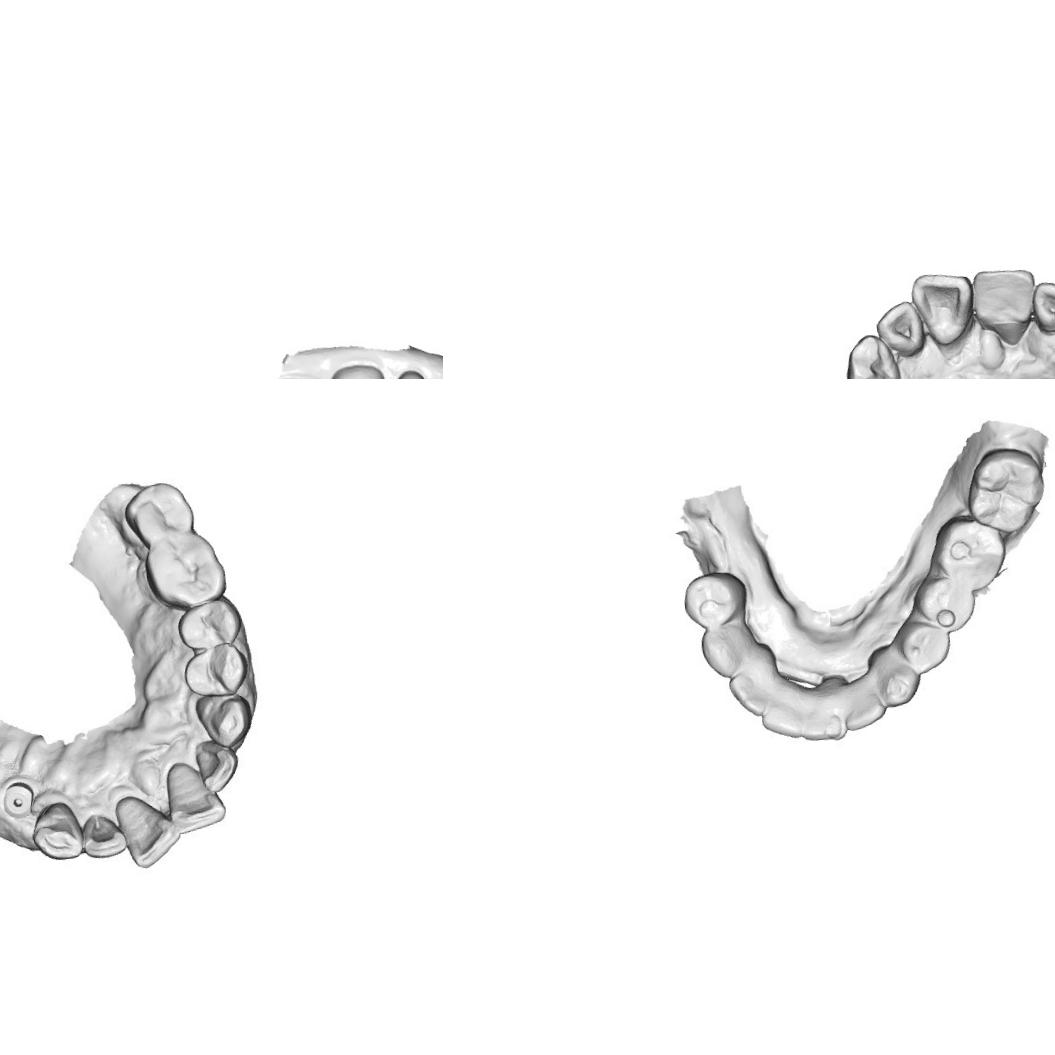canine: (695, 618, 764, 680), (198, 686, 257, 755), (30, 802, 91, 865), (846, 330, 909, 379), (872, 646, 919, 700)
implant: (0, 783, 34, 821)
incisor: (972, 266, 1042, 346), (160, 758, 230, 837), (112, 789, 180, 870), (912, 270, 978, 348), (872, 299, 930, 362), (839, 675, 894, 730), (723, 662, 775, 717), (81, 810, 128, 865), (758, 688, 807, 739), (191, 740, 238, 792), (797, 688, 844, 740), (1029, 275, 1055, 340)
molar: (966, 446, 1047, 536), (148, 528, 224, 608), (938, 512, 1004, 591), (128, 480, 197, 544), (320, 361, 394, 379)
premolar: (894, 618, 965, 677), (682, 566, 742, 632), (182, 644, 247, 703), (182, 596, 244, 653), (925, 574, 981, 631)
